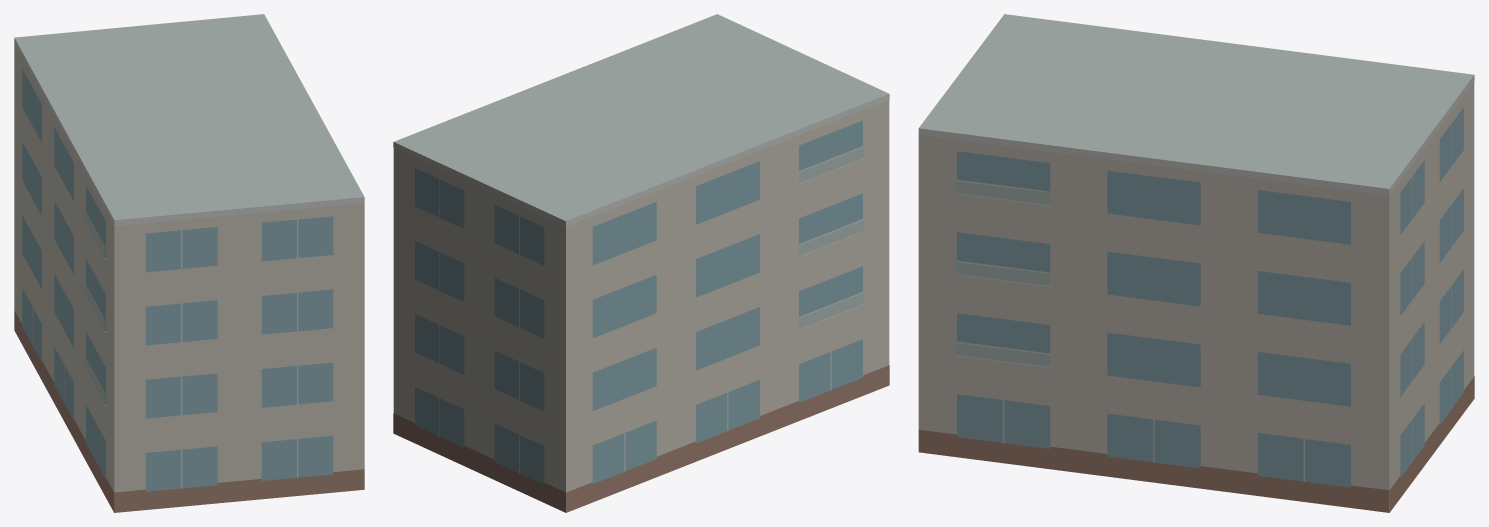
File: survey-upis-32613636.glb
3 renders of one model, left to right at view 1: azimuth 30°, elevation 25°; view 2: azimuth 150°, elevation 25°; view 3: azimuth 270°, elevation 25°, orthographic. The views are drawn at different scales.
Visible parts, largest first — view 1: survey-upis-32613636.tmp; view 2: survey-upis-32613636.tmp; view 3: survey-upis-32613636.tmp.
Boxes of the visible parts, <box> form: survey-upis-32613636.tmp: <box>14,14,364,512</box>; survey-upis-32613636.tmp: <box>393,14,889,512</box>; survey-upis-32613636.tmp: <box>918,14,1474,512</box>.
Size of the model in its own units: 13.91 by 12 by 18.67.
